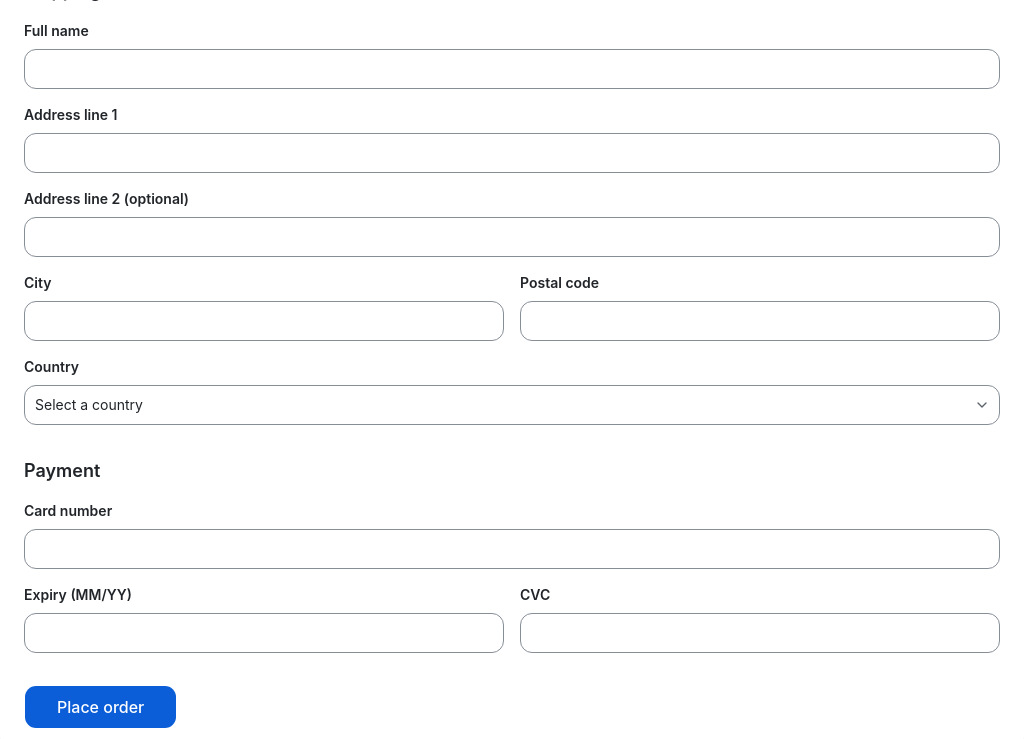
Test: CheckoutForm › [BR-K2] shows every required error after submit and focuses Email
This screenshot has width=1024, height=739.
(page scrolled)
Click the button "Place order". click: click(101, 707)
box: [24,685,177,729]
(page scrolled)
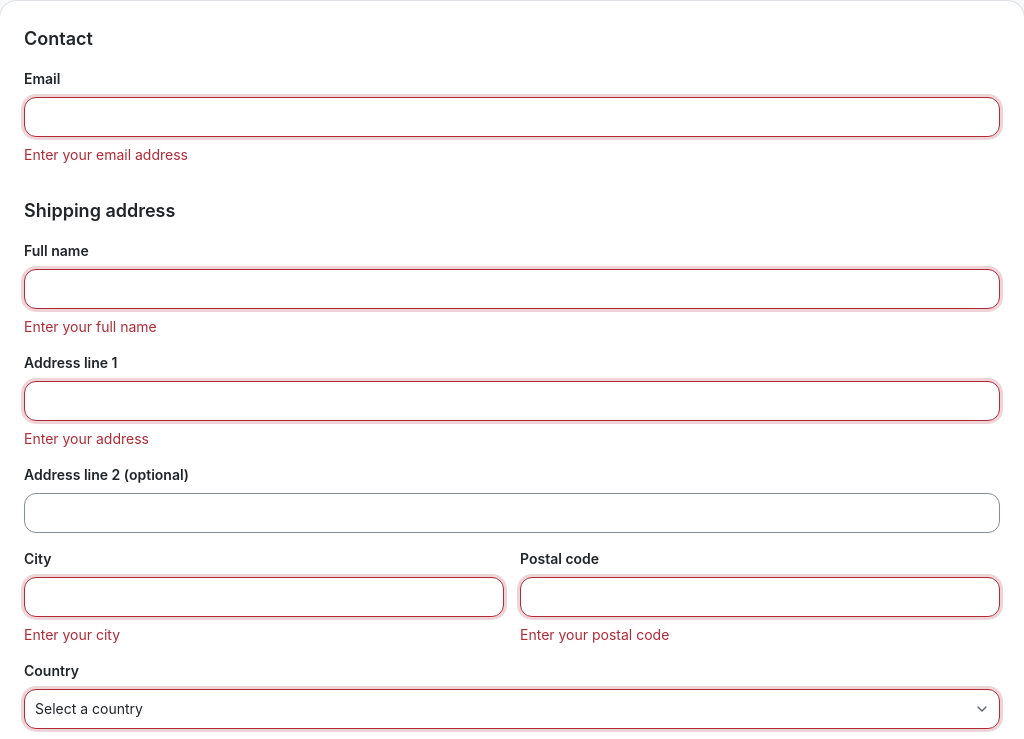
Now the text "Enter your email address" is shown, box [24,146,188,163]
Now the text "Enter your full name" is shown, box [24,318,157,335]
Now the text "Enter your address" is shown, box [24,430,149,447]
